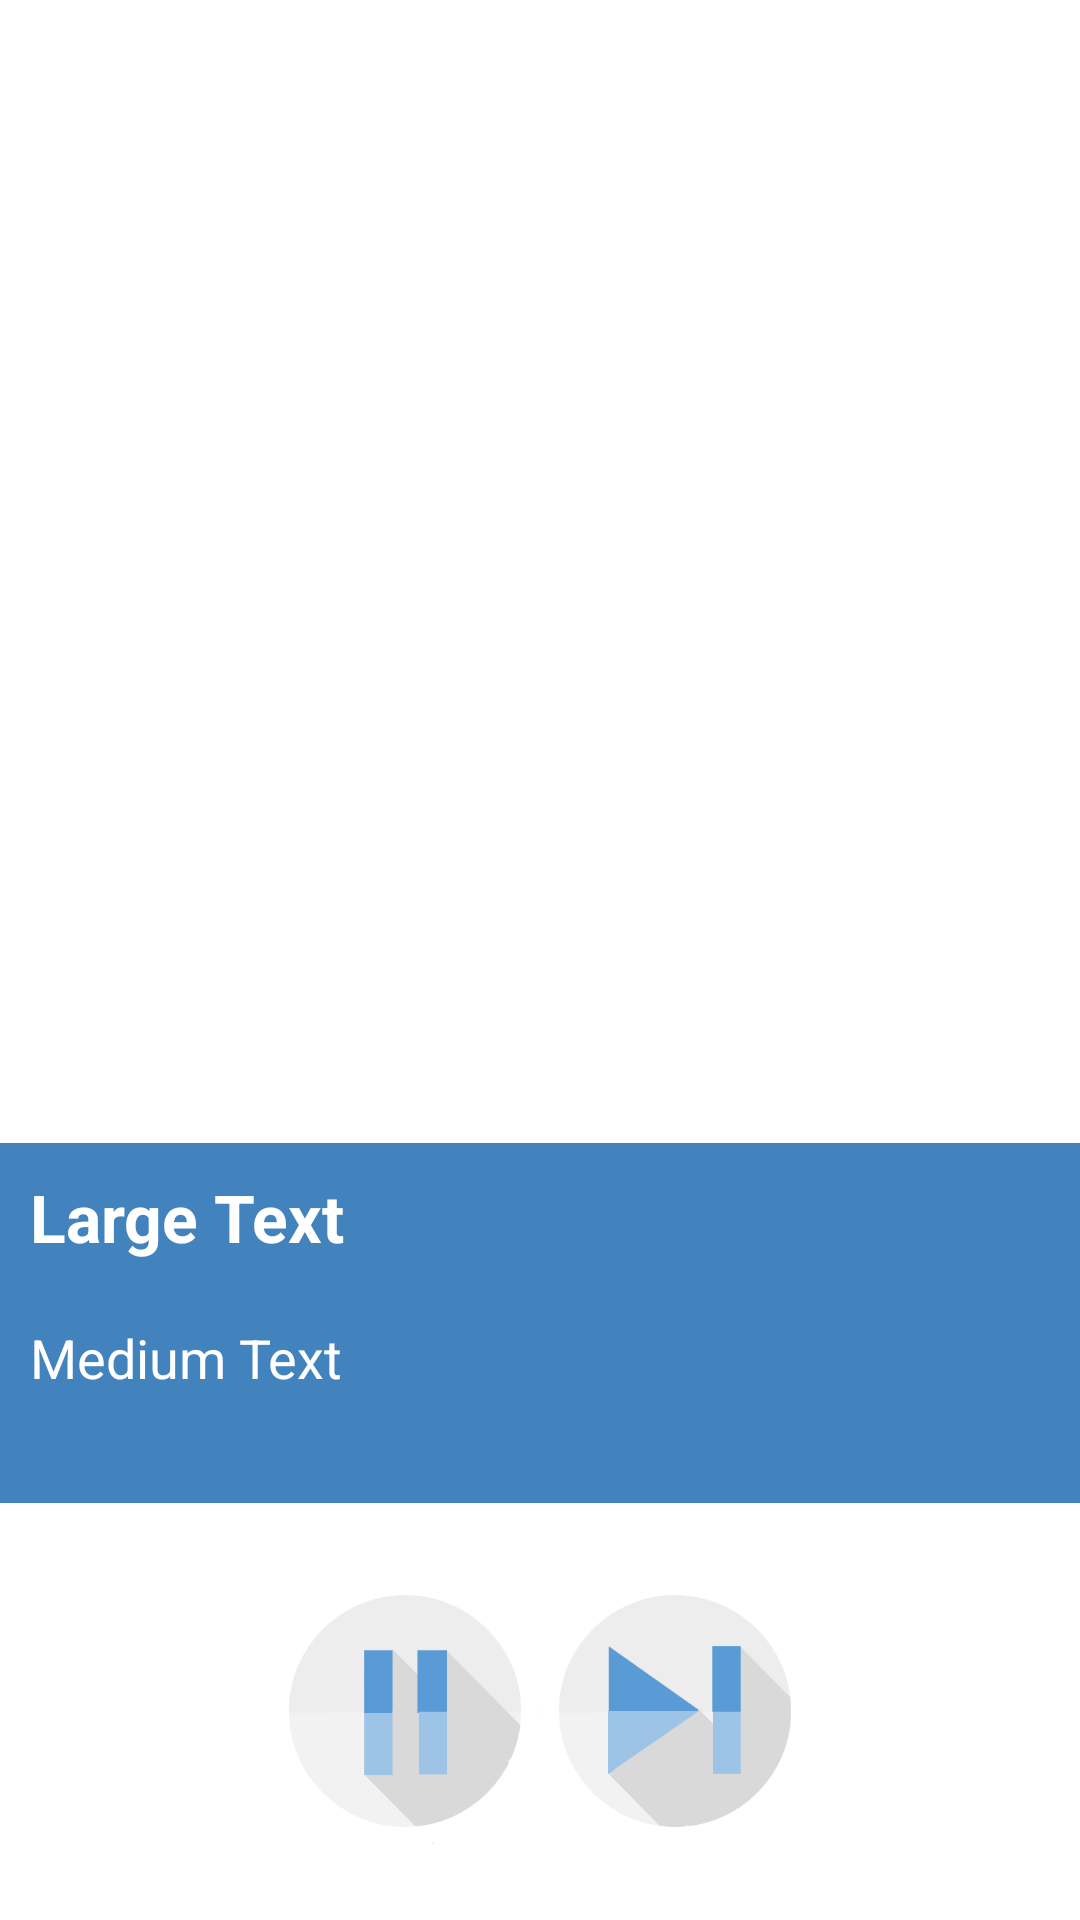

Where to tap for icons on this 1080px×1920px app screen, as [x,y]:
skip: [699,1736]
